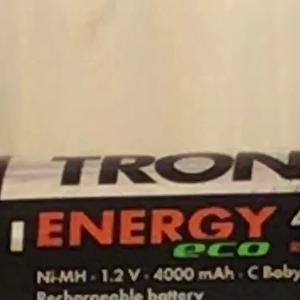keyword: (28, 261, 91, 292)
